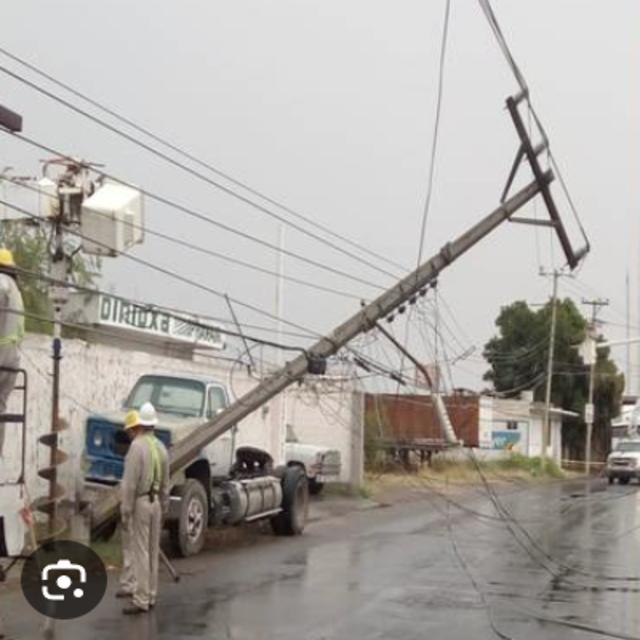Inclined Pole: (84, 81, 599, 537)
